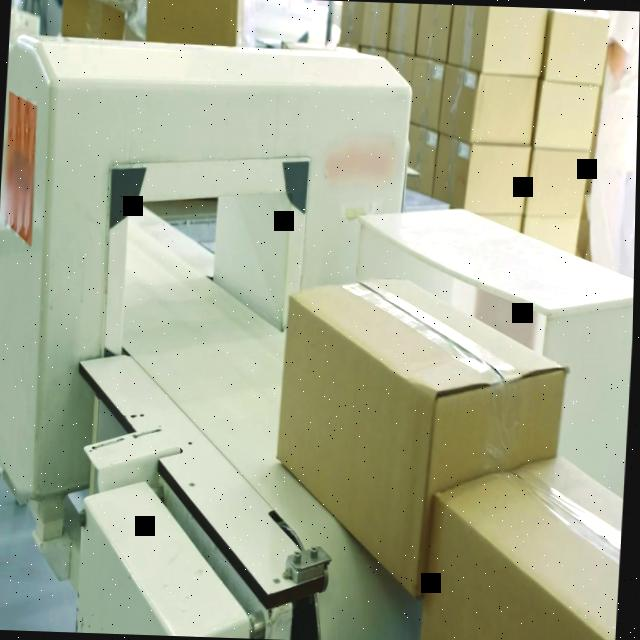box: (270, 274, 572, 603), (421, 450, 627, 640)
